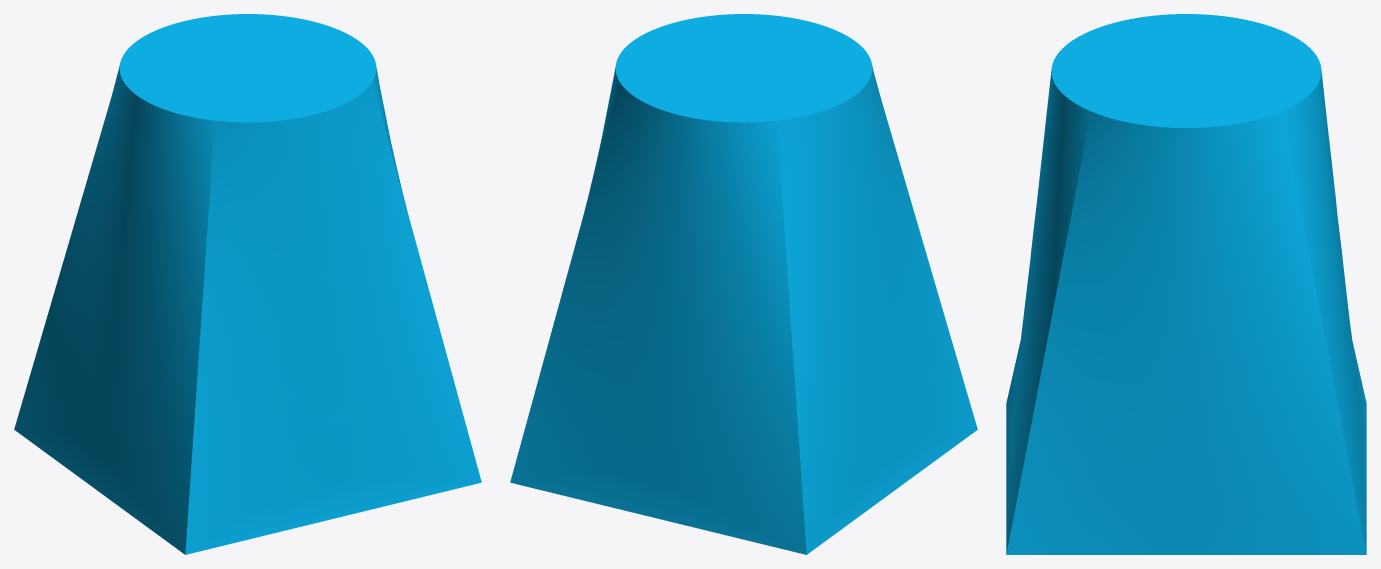
File: loft-adapter.gltf
The picture shows the model from 3 angles, left to right: view 1: azimuth 30°, elevation 25°; view 2: azimuth 150°, elevation 25°; view 3: azimuth 270°, elevation 25°; orthographic projection. The views are drawn at different scales.
Visible parts, largest first — view 1: Gövde; view 2: Gövde; view 3: Gövde.
Boxes of the visible parts, x1,y1,x2,y2 form: Gövde: [14, 14, 481, 554]; Gövde: [510, 14, 977, 554]; Gövde: [1006, 14, 1366, 554].
Bounding box in the file's own units: 0.04 × 0.05 × 0.04.
